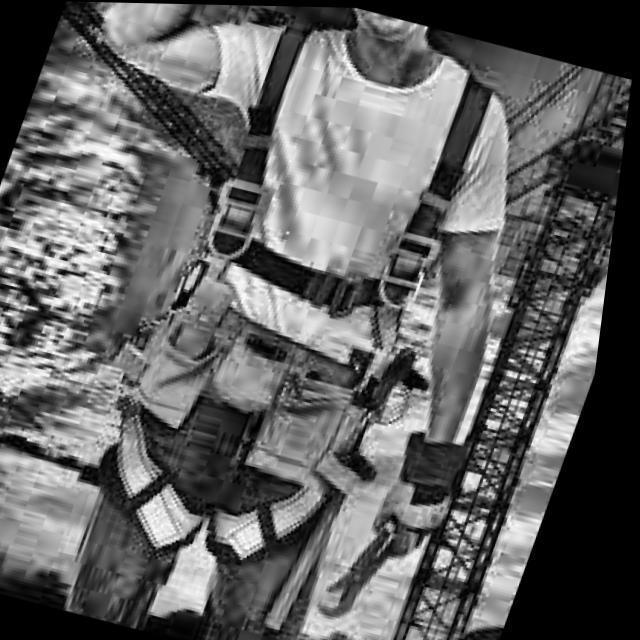Harness: (205, 28, 496, 312)
